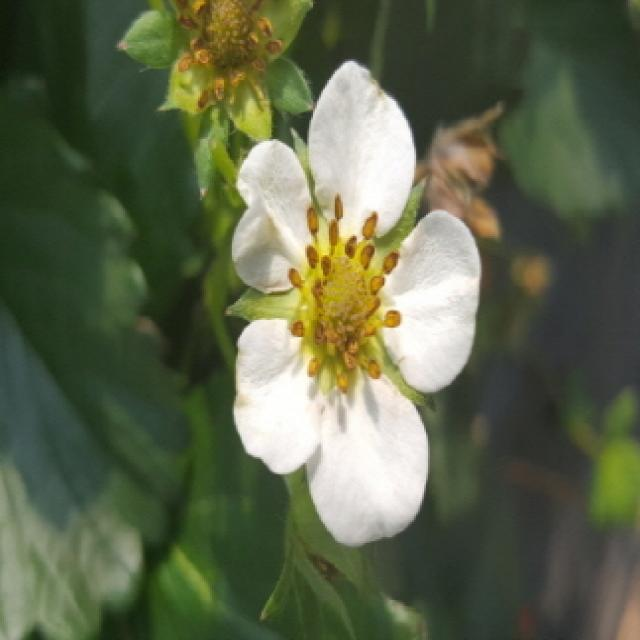Blossom Blight: (277, 190, 407, 405), (167, 0, 291, 117)
